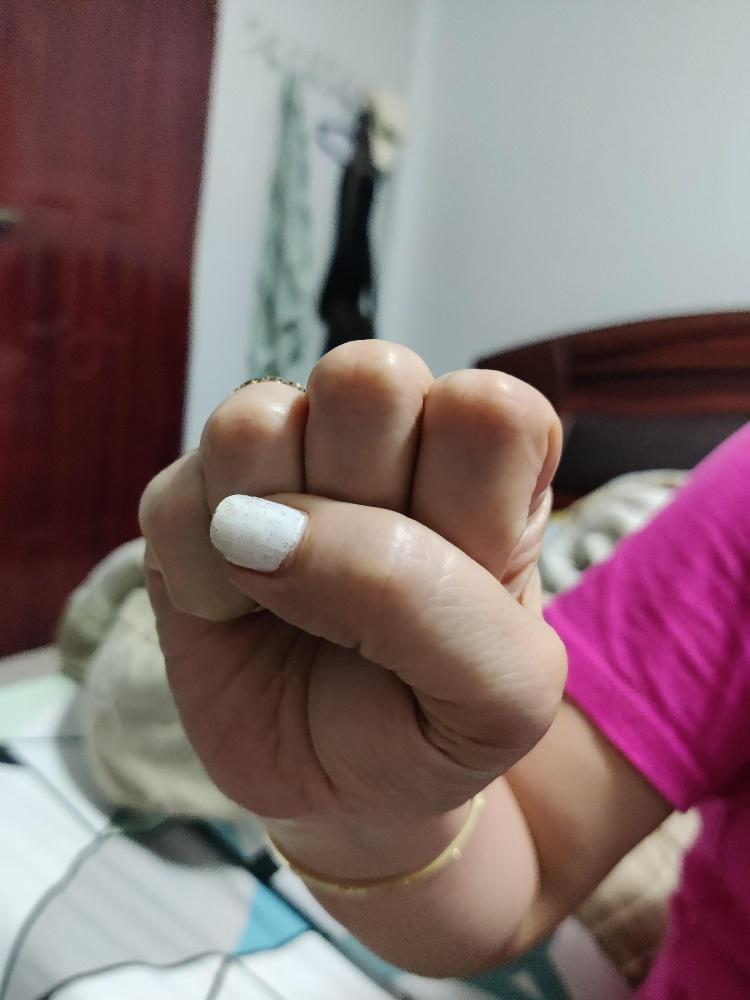s: (135, 335, 569, 821)
